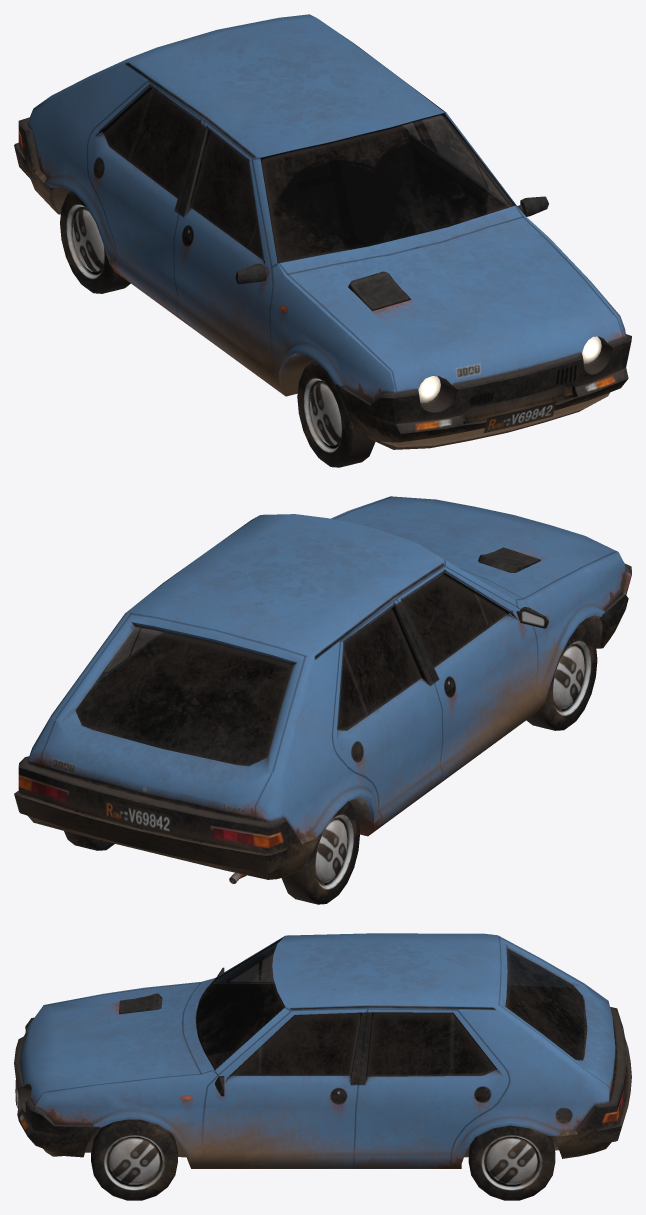
File: fiat-strada-lowpolycarchallenge.glb
3 views of the same model, one above another, from view 1: azimuth 30°, elevation 25°; view 2: azimuth 150°, elevation 25°; view 3: azimuth 270°, elevation 25° (orthographic). The views are drawn at different scales.
Parts seen in each view (by area): view 1: Fiat_low, interior_low, wheelsFront_low, wheelBack_low, AirVent_low_02 - Default_0, LicencePlateFront_low_02 - Default_0, headlights_low; view 2: Fiat_low, interior_low, wheelBack_low, wheelsFront_low, AirVent_low_02 - Default_0, LicencePlateBack_low_02 - Default_0; view 3: Fiat_low, interior_low, wheelsFront_low, wheelBack_low, AirVent_low_02 - Default_0.
Part boxes in pixels (box(x1,y1,x2,y2)): Fiat_low: box(14, 14, 631, 449); interior_low: box(104, 88, 508, 262); wheelsFront_low: box(297, 361, 375, 467); wheelBack_low: box(60, 191, 130, 293); AirVent_low_02 - Default_0: box(235, 196, 548, 310); LicencePlateFront_low_02 - Default_0: box(483, 401, 556, 432); headlights_low: box(418, 336, 601, 403); Fiat_low: box(14, 496, 631, 879); interior_low: box(75, 573, 507, 765); wheelBack_low: box(64, 801, 359, 904); wheelsFront_low: box(526, 624, 597, 730); AirVent_low_02 - Default_0: box(478, 547, 548, 628); LicencePlateBack_low_02 - Default_0: box(103, 799, 172, 834); Fiat_low: box(14, 933, 631, 1168); interior_low: box(197, 984, 583, 1075); wheelsFront_low: box(91, 1119, 177, 1200); wheelBack_low: box(468, 1125, 555, 1200); AirVent_low_02 - Default_0: box(119, 967, 224, 1096).
Size of the model in its own units: 18.9 by 13.99 by 40.89.
1 material, 1 textured.
